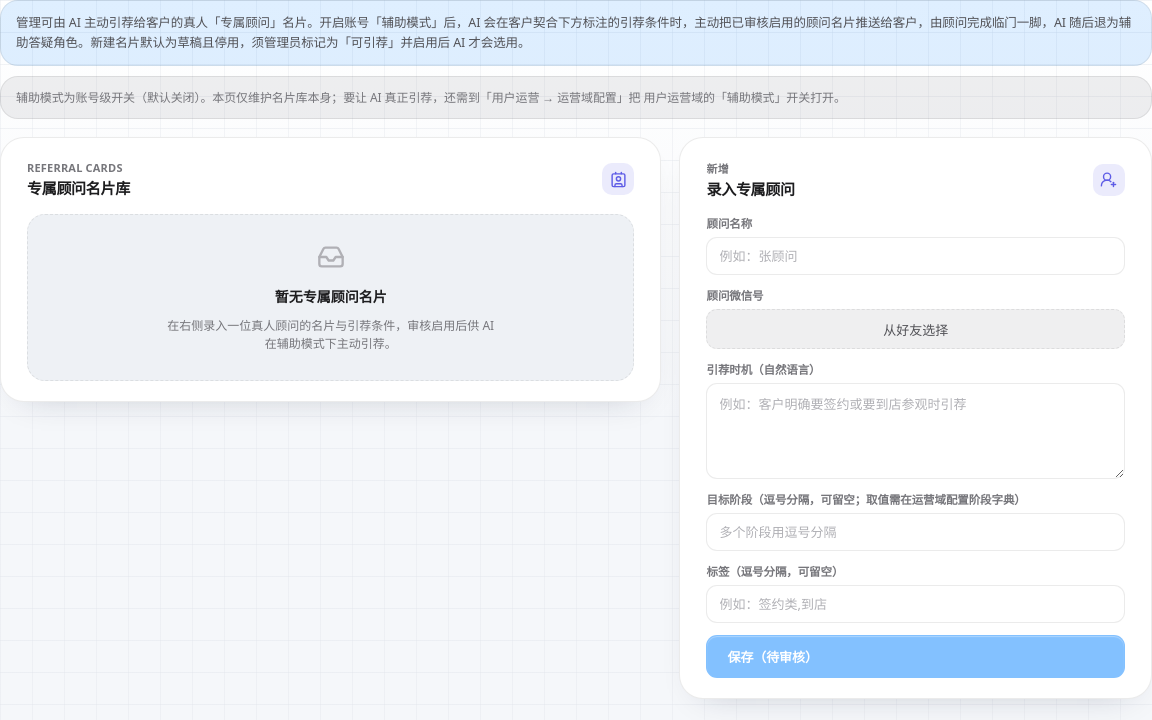
Test: ReferralCards 顾问选择器 › 点「从好友选择」打开弹窗,选好友后回填 wxid 且名称为空时联动回填
Click the button "从好友选择". click: (916, 329)
box: top-left (706, 309), bottom-right (1125, 349)
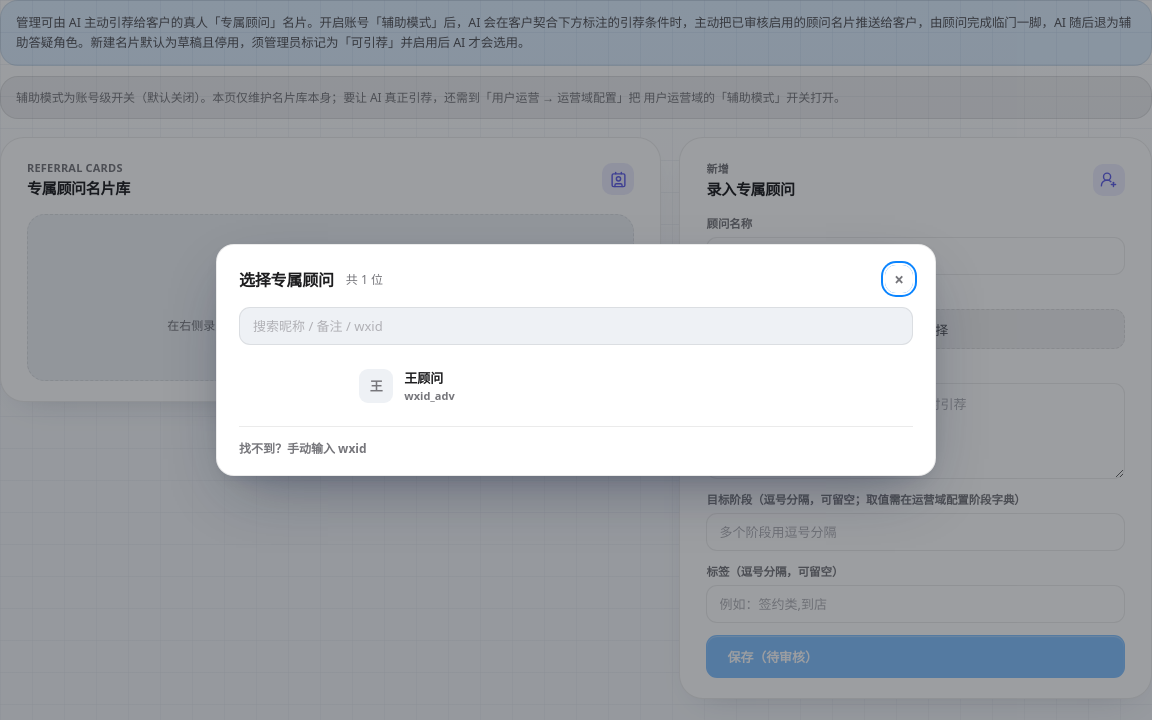
Click the text "王顾问". click: (424, 378)
box: top-left (404, 369), bottom-right (443, 387)
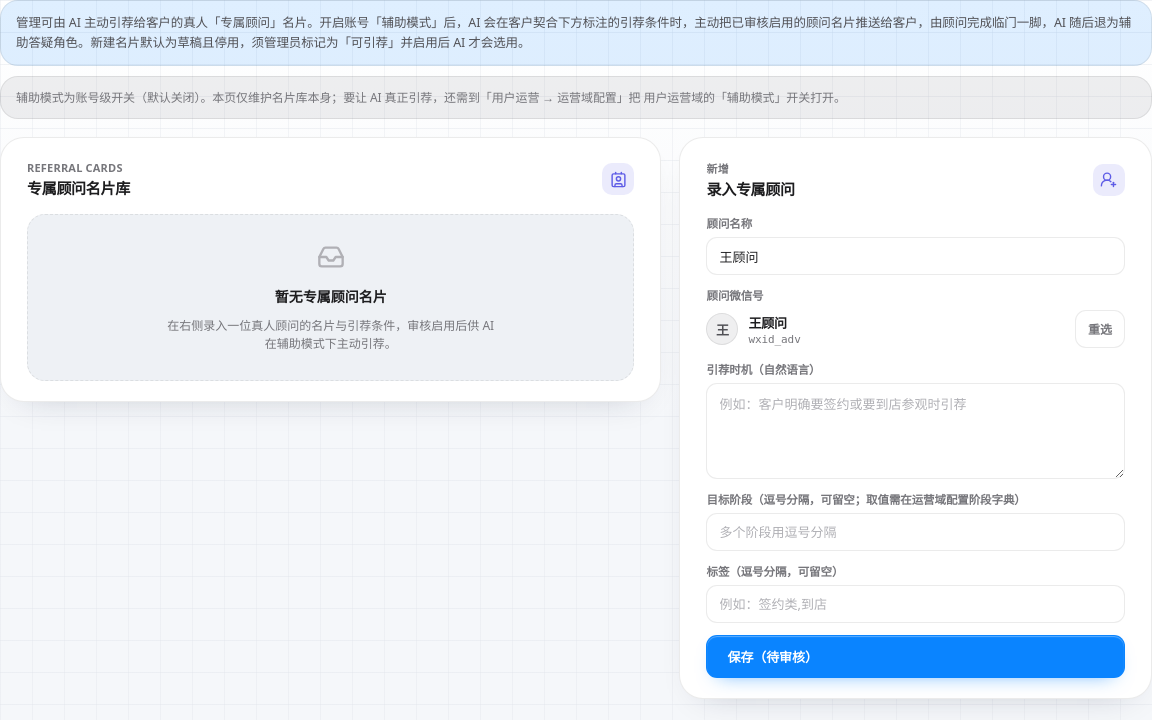
Check: the text "wxid_adv" is shown, box top-left (748, 333), bottom-right (801, 346)
Check: the text "王顾问" is shown, box top-left (748, 314), bottom-right (787, 332)
Check: the button "重选" is shown, box top-left (1075, 310), bottom-right (1125, 348)
